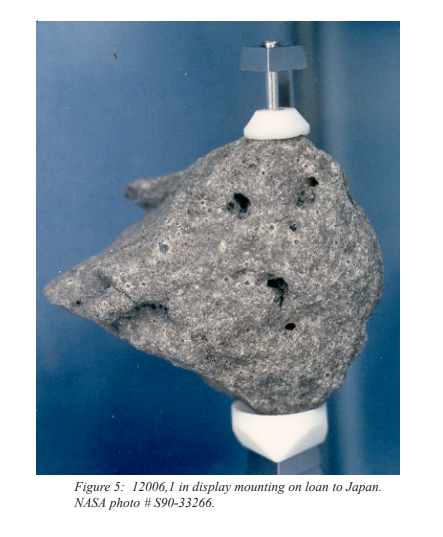Basalt: (29, 147, 392, 404)
